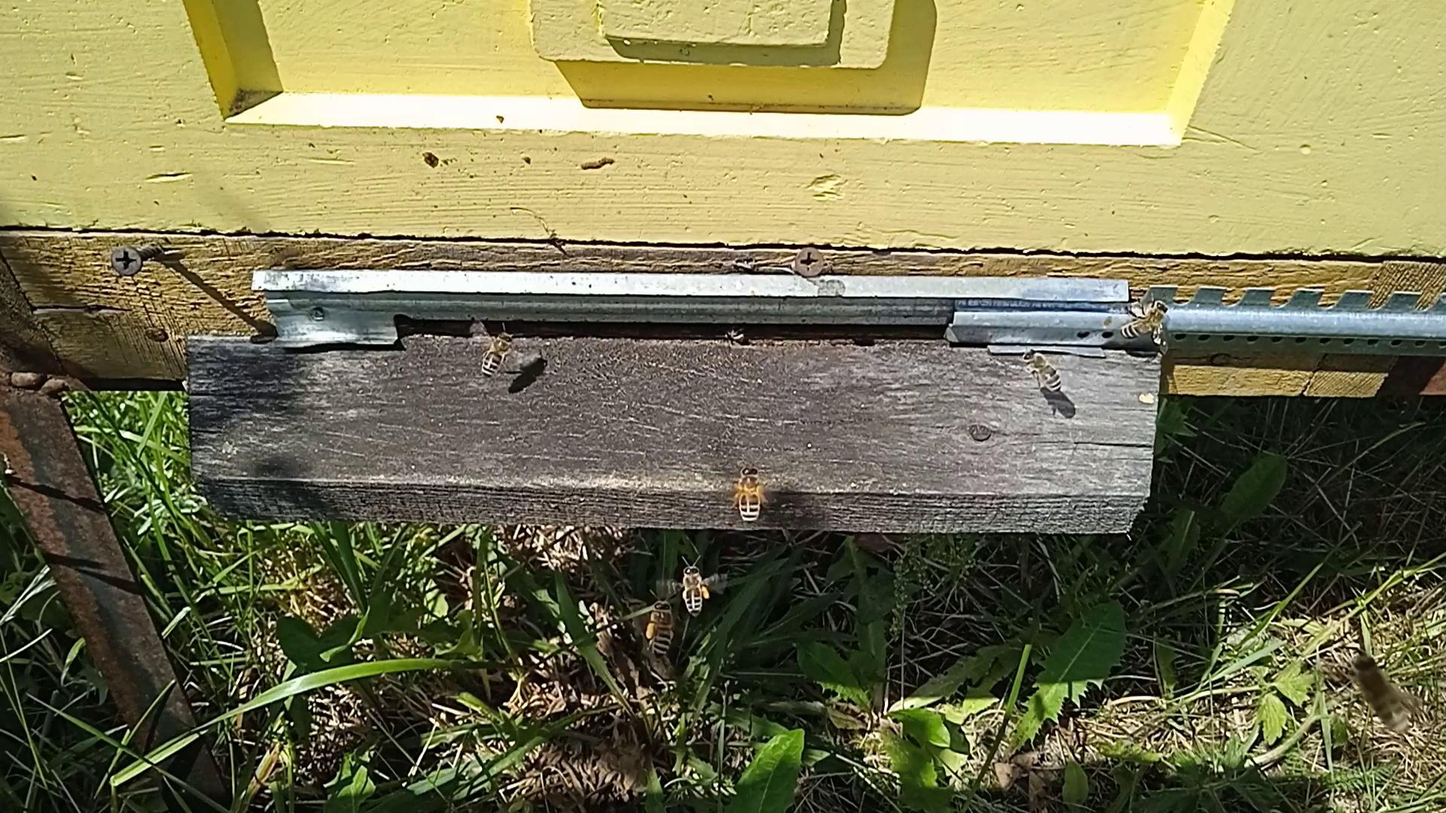worker-bee: (1353, 653, 1412, 736), (732, 465, 767, 525), (1120, 299, 1170, 340), (1020, 349, 1064, 394), (479, 330, 516, 377), (646, 599, 676, 656), (681, 562, 709, 617), (724, 323, 749, 345)
